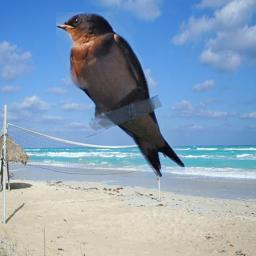Swallow: (56, 12, 185, 177)
